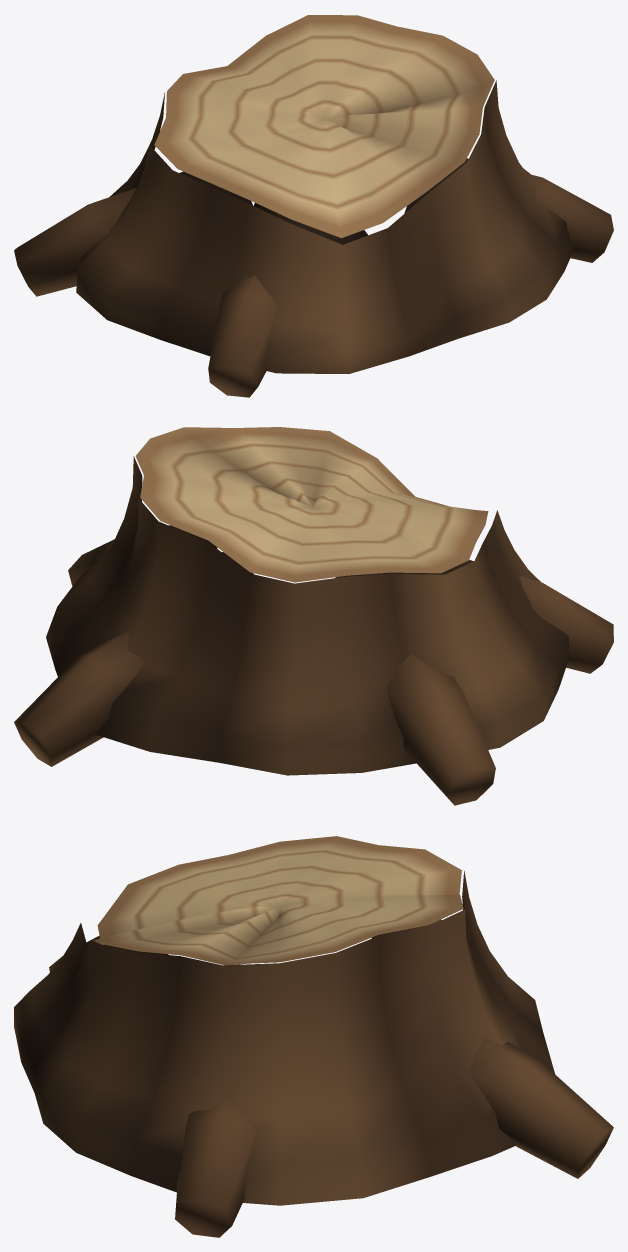
File: tree-stump-v2.glb
3 views of the same model, one above another, from view 1: azimuth 30°, elevation 25°; view 2: azimuth 150°, elevation 25°; view 3: azimuth 270°, elevation 25° (orthographic). The views are drawn at different scales.
Parts seen in each view (by area): view 1: 0_stump; view 2: 0_stump; view 3: 0_stump.
Boxes of the visible parts, left/top/right/bottom form: 0_stump: left=14, top=15, right=613, bottom=397; 0_stump: left=14, top=427, right=613, bottom=805; 0_stump: left=14, top=836, right=613, bottom=1237.
Size of the model in its own units: 1.4 by 0.5596 by 1.29.
